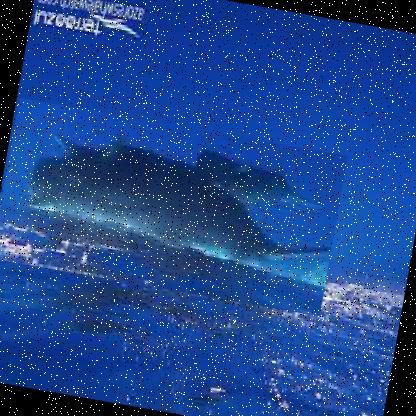sperm_whale: (0, 96, 347, 317)
